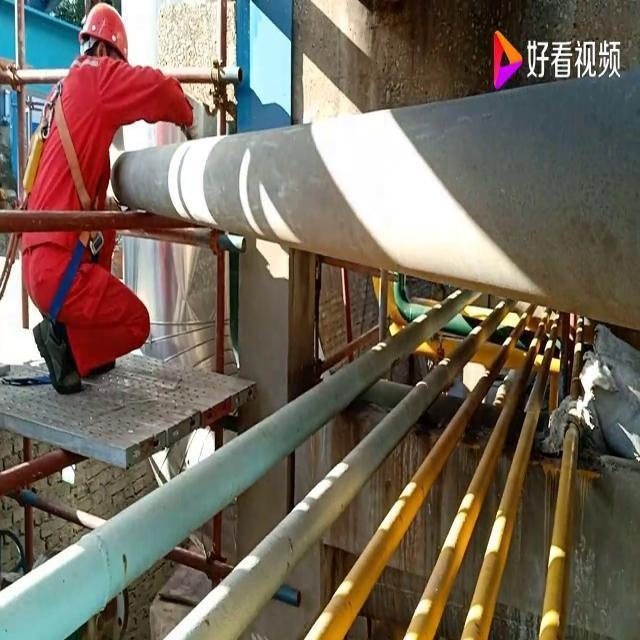Arnes_seguridad: (21, 51, 117, 330)
